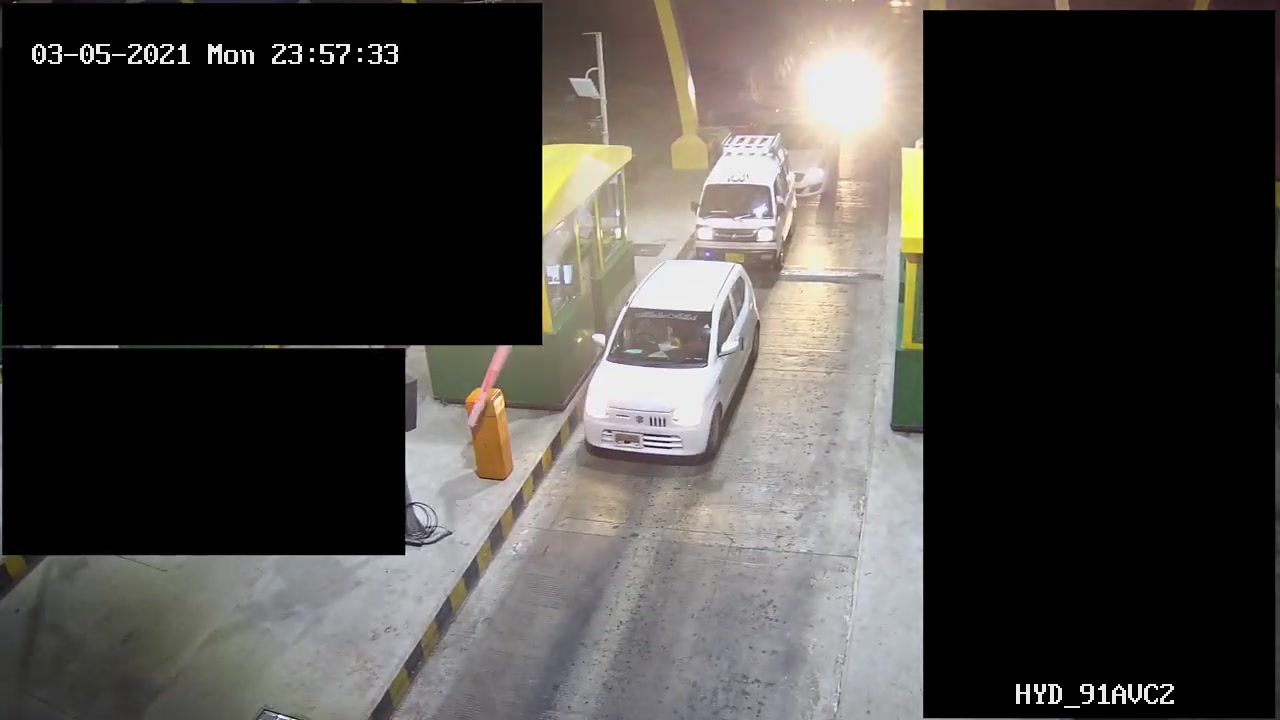F1: (577, 261, 759, 470), (695, 133, 811, 262)
